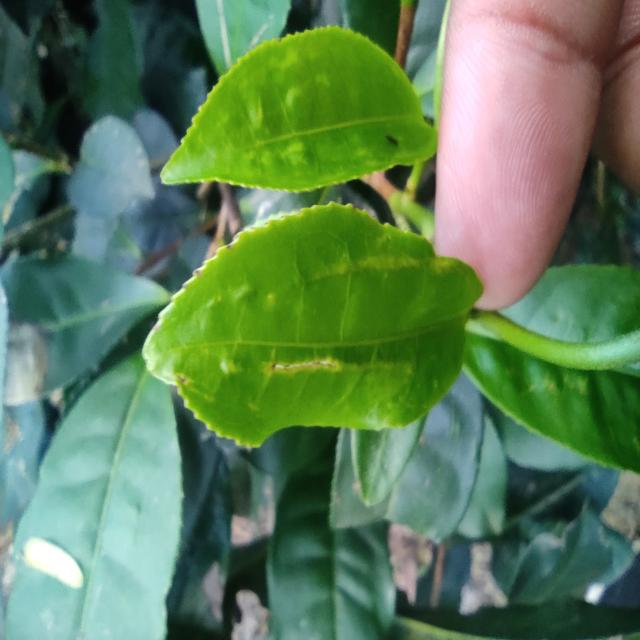Category C 4-7 days: (136, 185, 504, 468)
